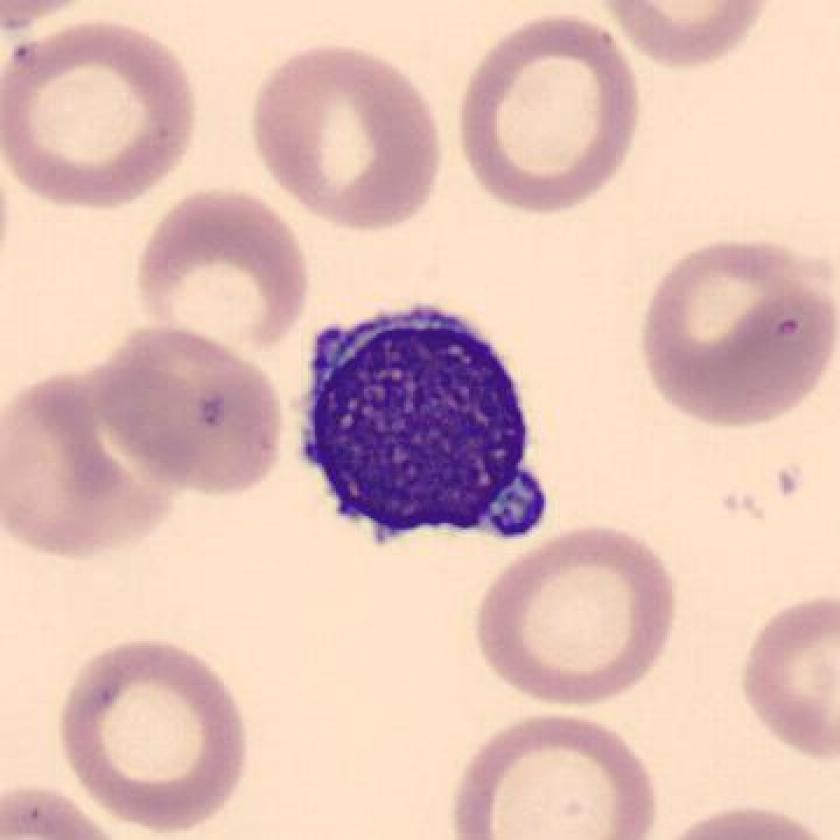lymphocyte: (286, 290, 568, 573)
